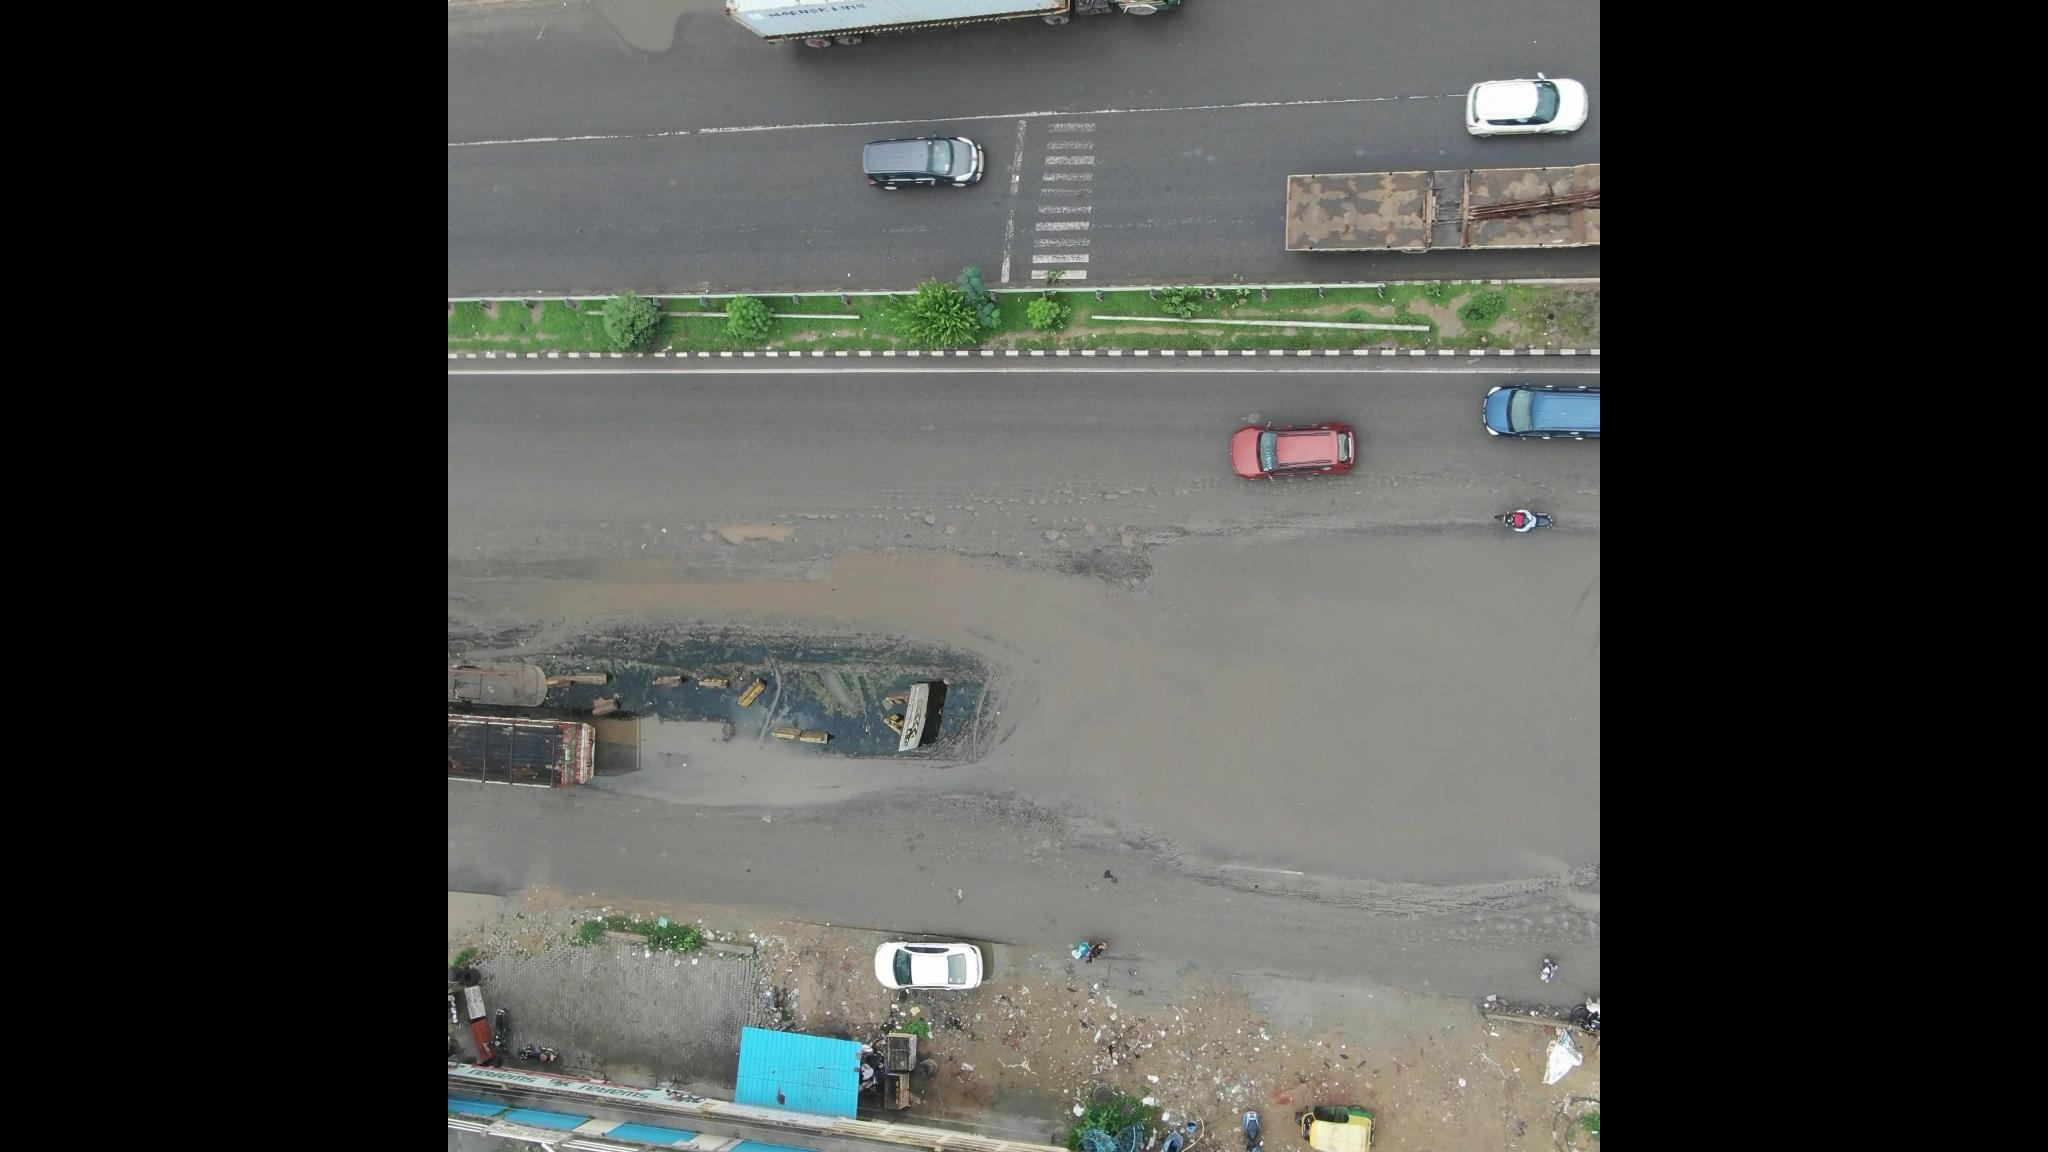Waterlogging: (1115, 543, 1580, 910)
